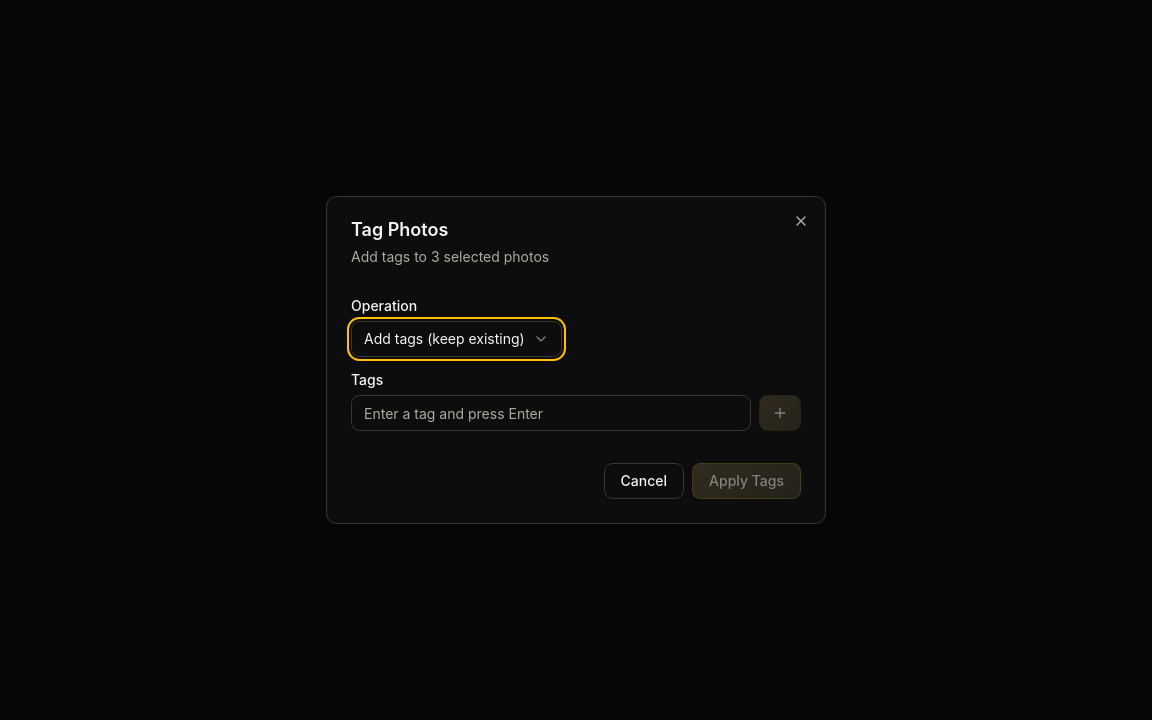
Scenario: BatchTagDialog Component › Tag Input and Management › can remove tag by clicking X button
Type "removeMe" into the field with placeholder "Enter a tag and press Enter".
click(551, 413); type("removeMe")  # box [351, 395, 751, 431]
Then press Enter
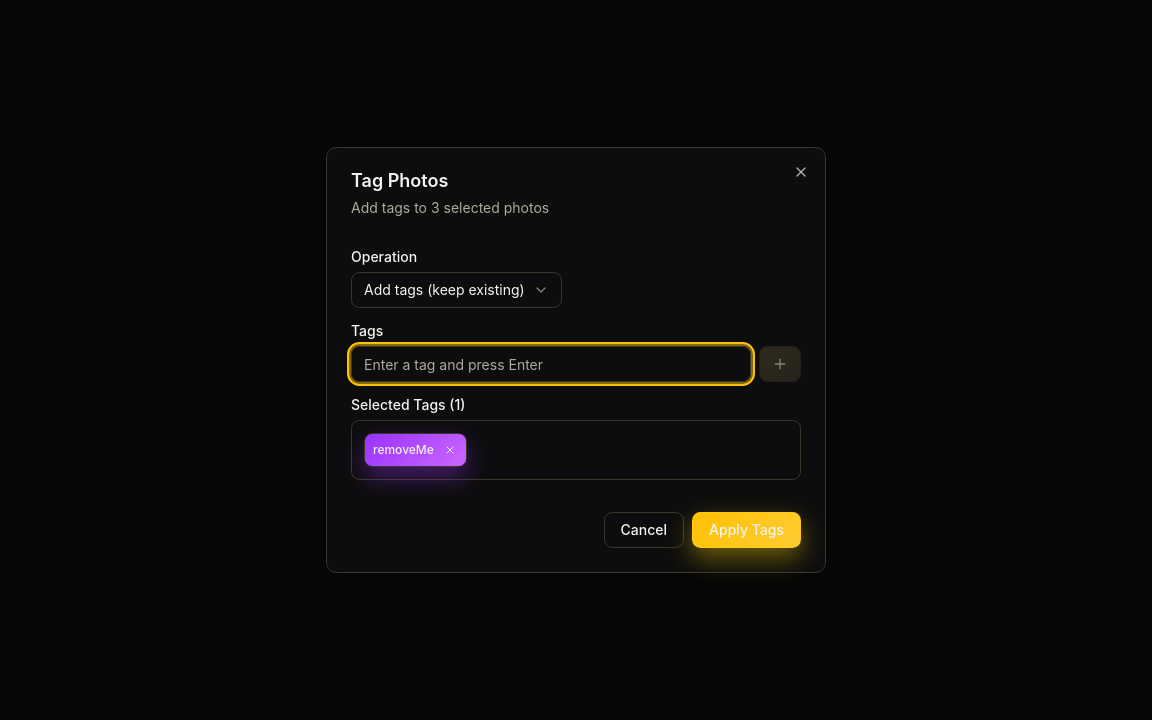
Expected: the text "removeMe" is shown, [364, 433, 467, 467]
Click the button without text next to "removeMe".
click(450, 450)  # box [442, 442, 458, 458]
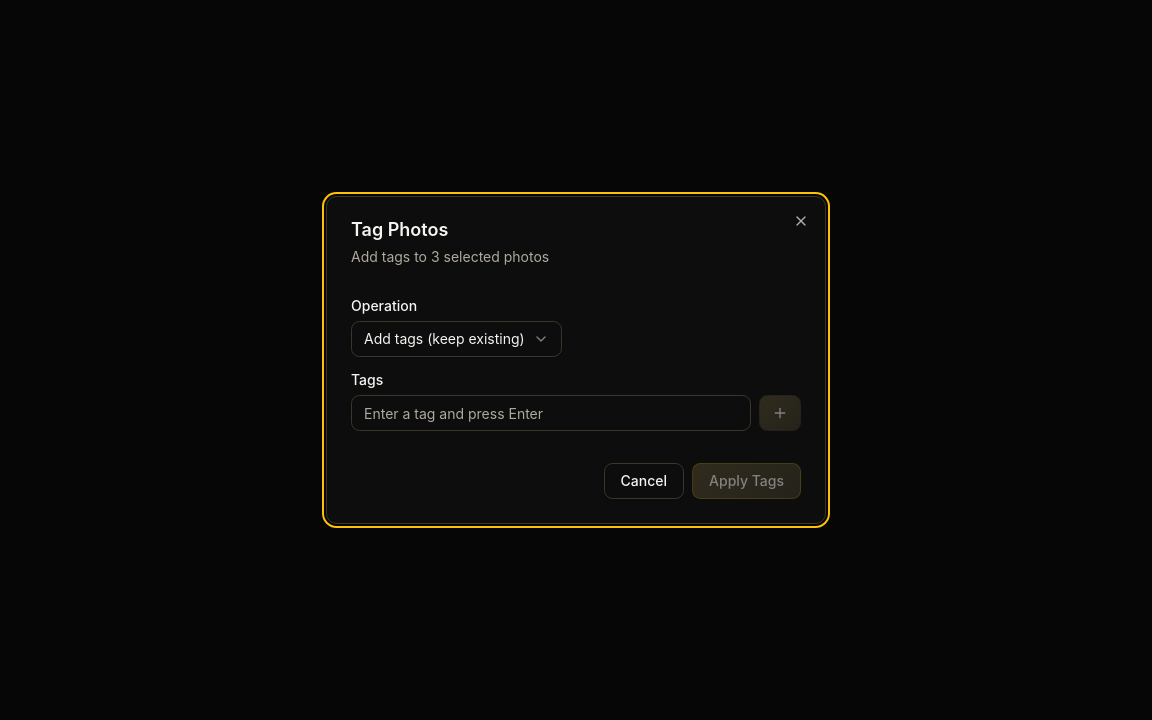
Expected: the text "removeMe" is gone
